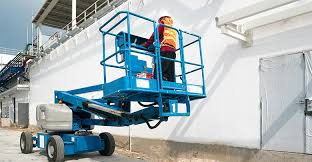Scissor Lift: (18, 10, 209, 162)
